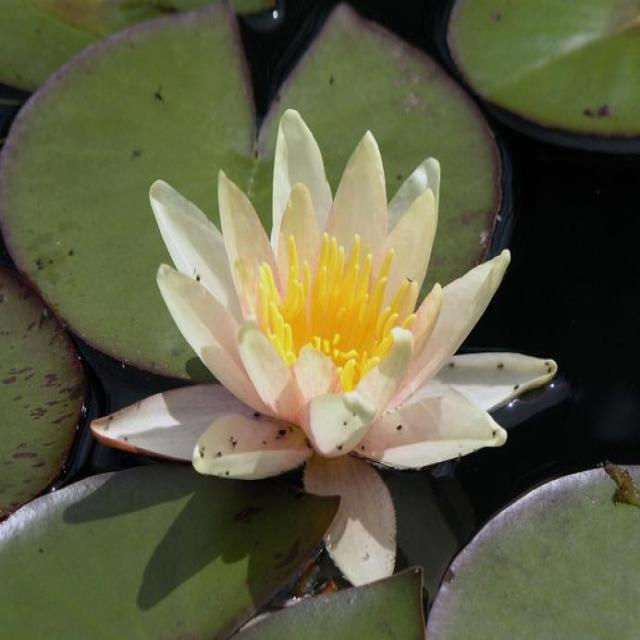rose: (114, 51, 593, 640)
